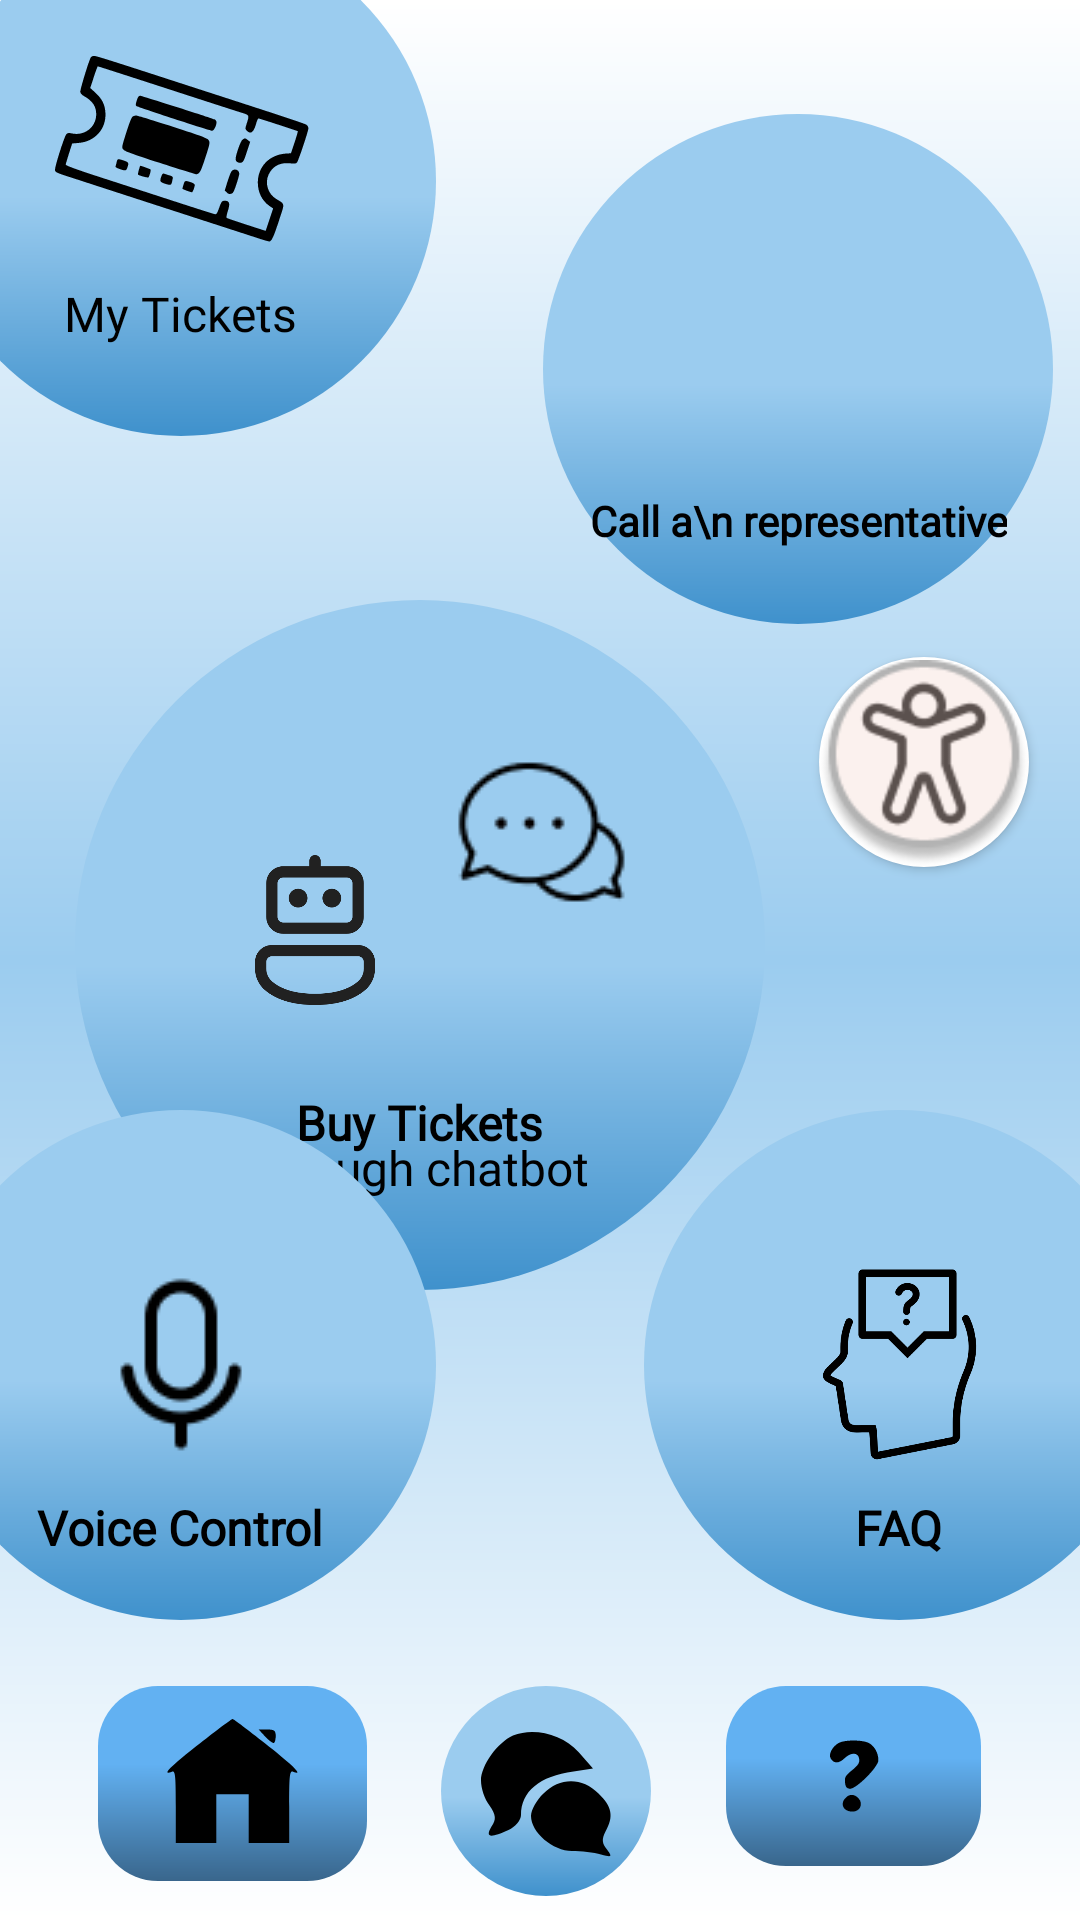

Icon click points for this 1080×1920 phone screenshot, format [x,y]:
bot: [315,930]
chats: [546,1791]
home: [232,1783]
microphone: [181,1386]
